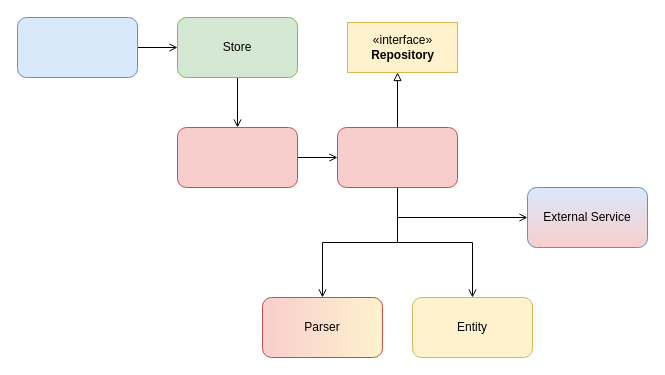
Image size: 665x375. Some labels were removed from this diagram. The shapes that lost their labels are listed below. From the top down, each one's box as (x1, y1, x2, y2) in pixels, then its label:
(16, 16, 138, 78): Component
(176, 126, 298, 188): Use Case Interactor
(336, 126, 458, 188): Service
